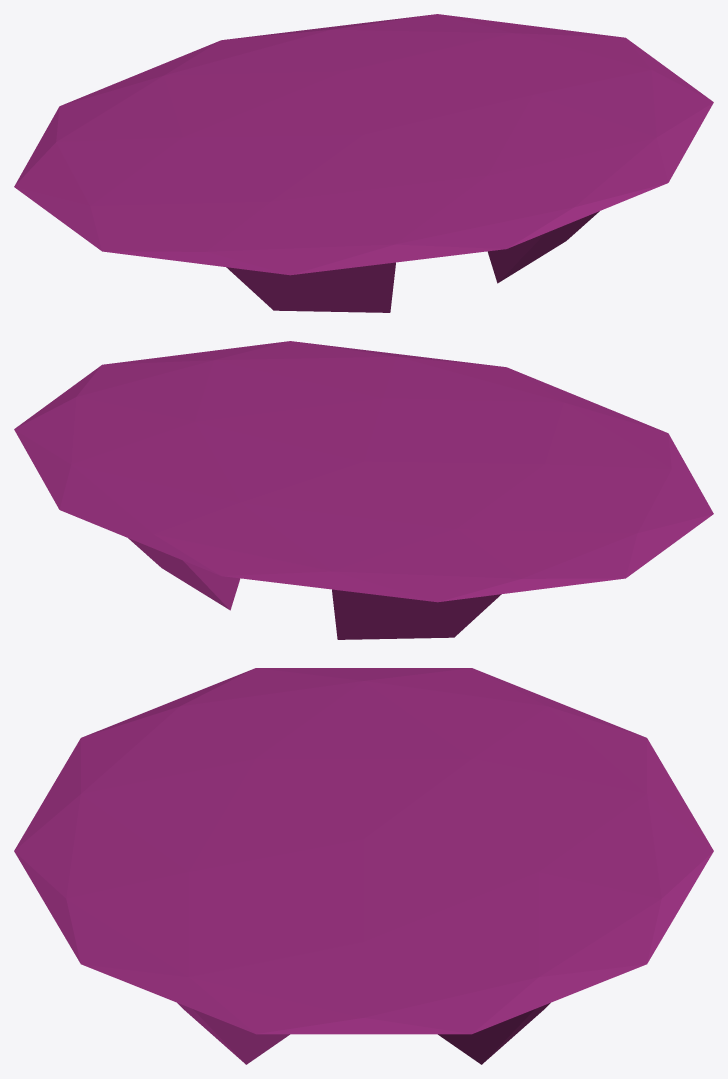
File: tabel.fbx
The picture shows the model from 3 angles, top to bottom: view 1: azimuth 30°, elevation 25°; view 2: azimuth 150°, elevation 25°; view 3: azimuth 270°, elevation 25°; orthographic projection. The views are drawn at different scales.
Parts seen in each view (by area): view 1: Icosphere; view 2: Icosphere; view 3: Icosphere.
Boxes of the visible parts, left/top/right/bottom form: Icosphere: left=14, top=14, right=713, bottom=312; Icosphere: left=14, top=341, right=713, bottom=639; Icosphere: left=14, top=668, right=713, bottom=1064.
Size of the model in its own units: 1812 by 316 by 1464.
